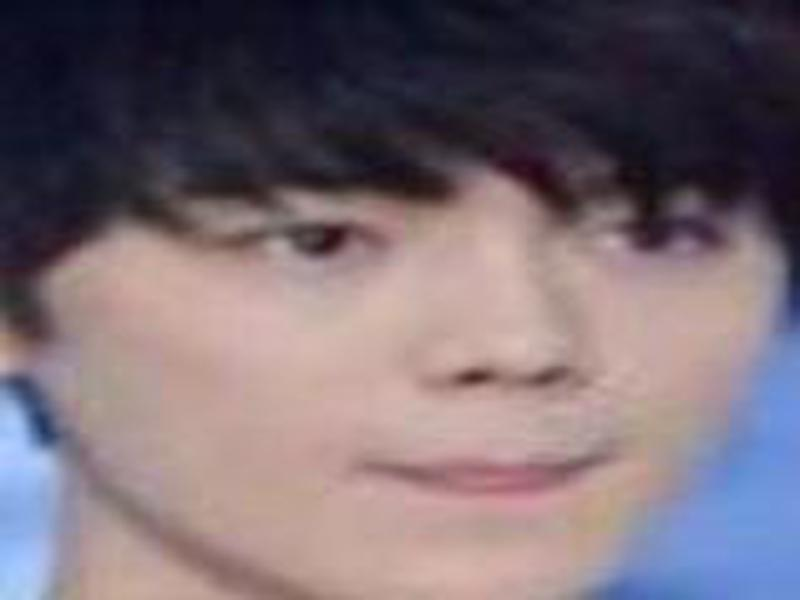without_mask: (40, 87, 783, 600)
